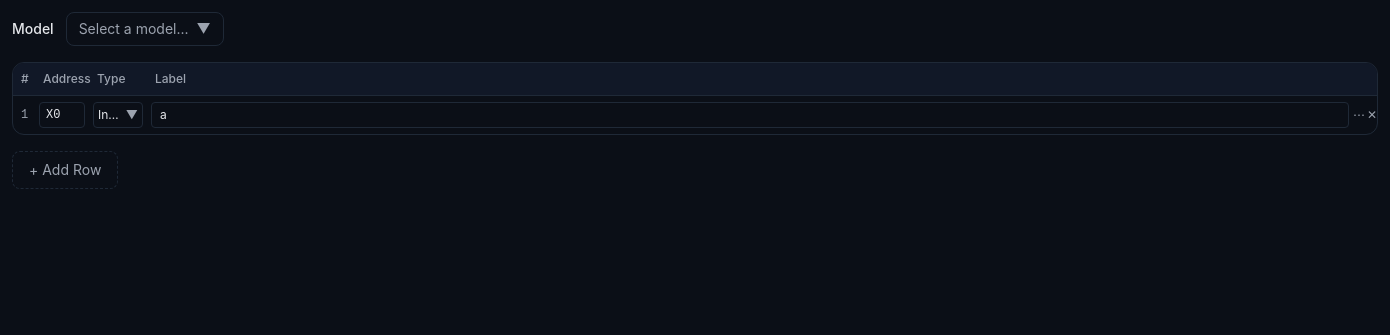
Test: IOMappingTable › octal address validator (M10.3.1) › shows the Arabic octal error when Y9 is typed
This screenshot has width=1390, height=335.
Replace the text in the field with test id "io-address-0" with "Y9" at [62, 115], box [39,102,85,128]
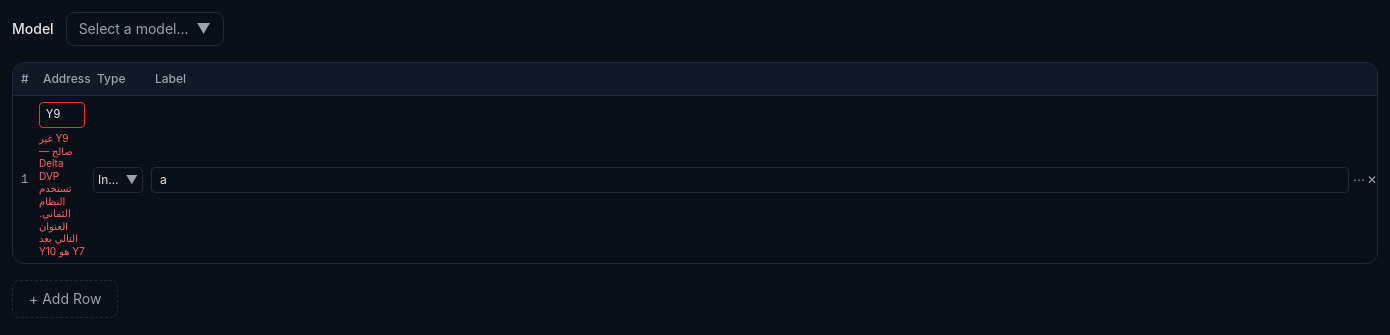
Now the text with test id "io-address-0-error" is shown, box [39,132,85,257]
Now the text with test id "io-address-0-error" shows "Y9", box [39,132,85,256]
Now the text with test id "io-address-0-error" shows "Y7", box [39,132,85,256]
